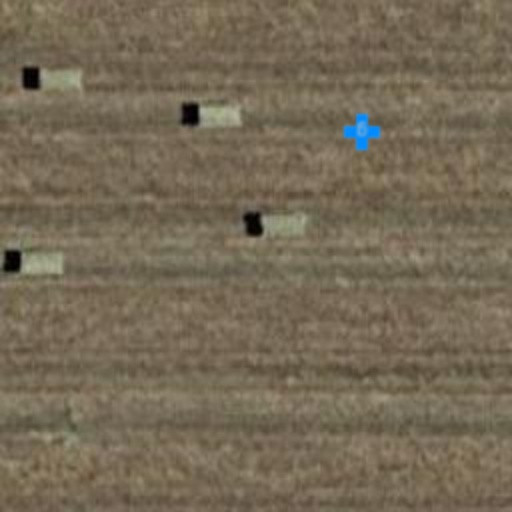cross: (342, 112, 382, 152)
